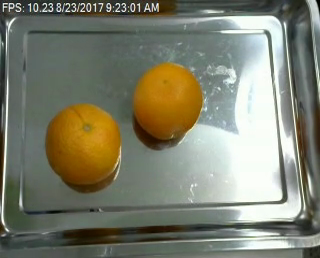Orange: (44, 103, 121, 186), (133, 62, 203, 139)
